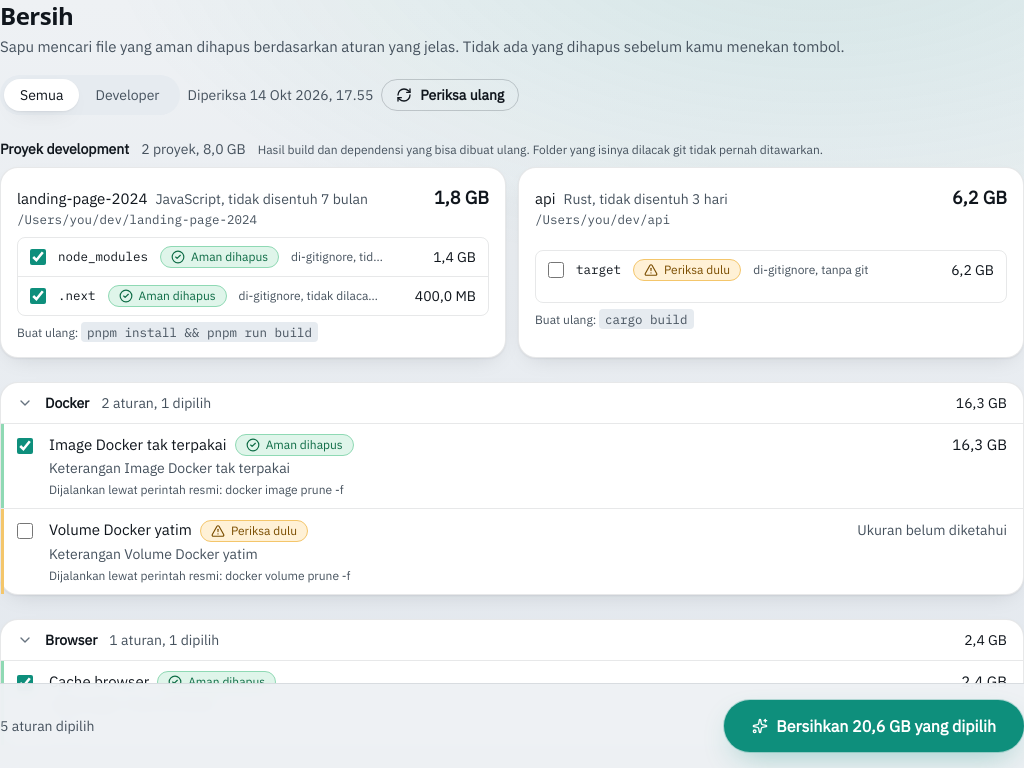
it: CleanView › shows a command's latest output while it runs, not just a spinner
Expected: the text "docker image prune -f" is shown, [49, 482, 344, 497]
Click the button "Bersihkan 20,6 GB yang dipilih" at (874,726), box [724, 700, 1023, 752]
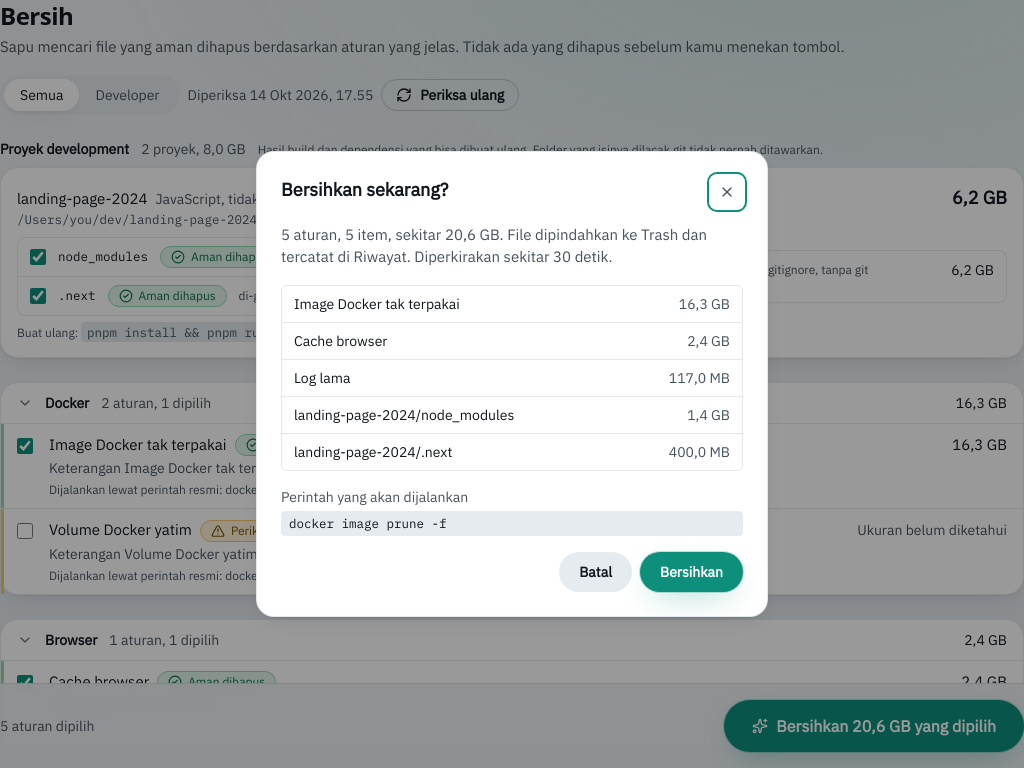
Click the button "Bersihkan" at (692,572), box [640, 552, 743, 592]
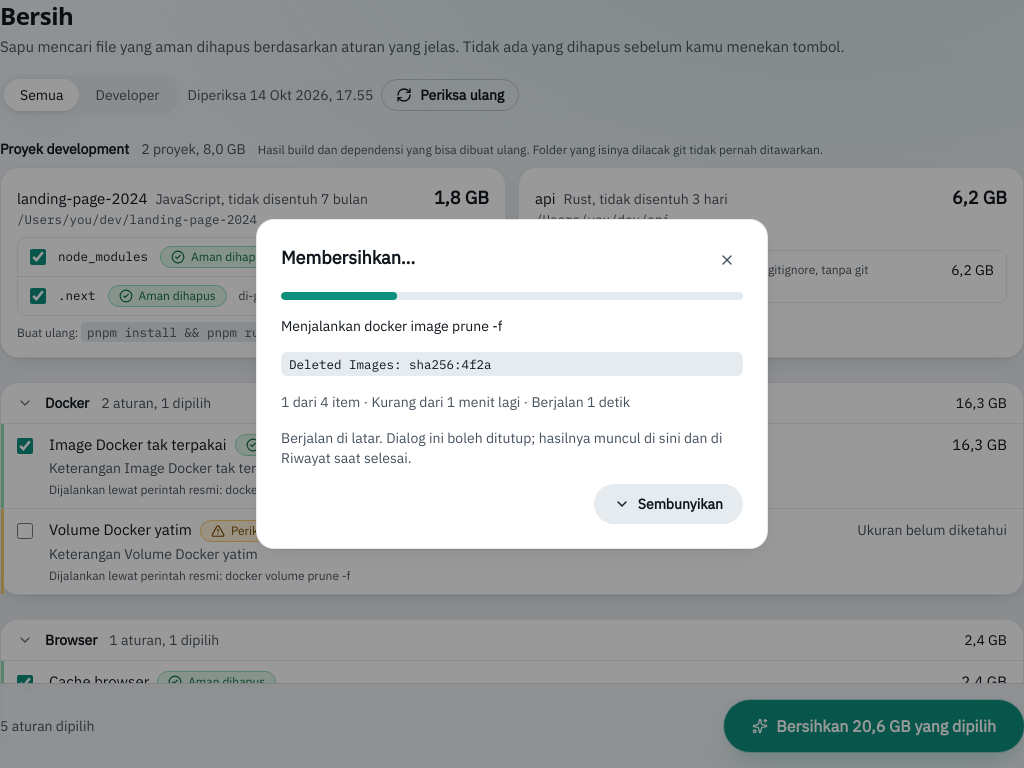
Expected: the text "Deleted Images: sha256:4f2a" is shown, [281, 352, 743, 376]
